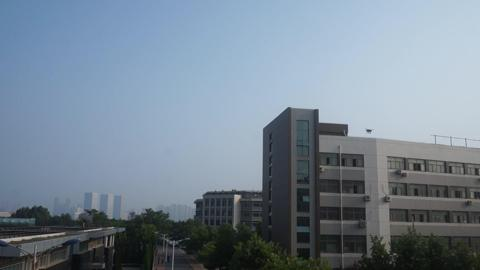UAV: (365, 128, 374, 134)
